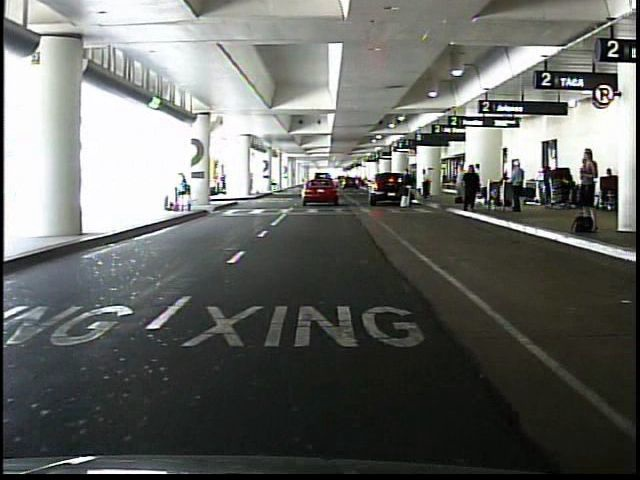person: (575, 147, 600, 218), (510, 161, 526, 214), (579, 159, 594, 215), (175, 173, 194, 217), (463, 163, 480, 212), (403, 166, 414, 210), (472, 163, 483, 202), (421, 168, 432, 201)
